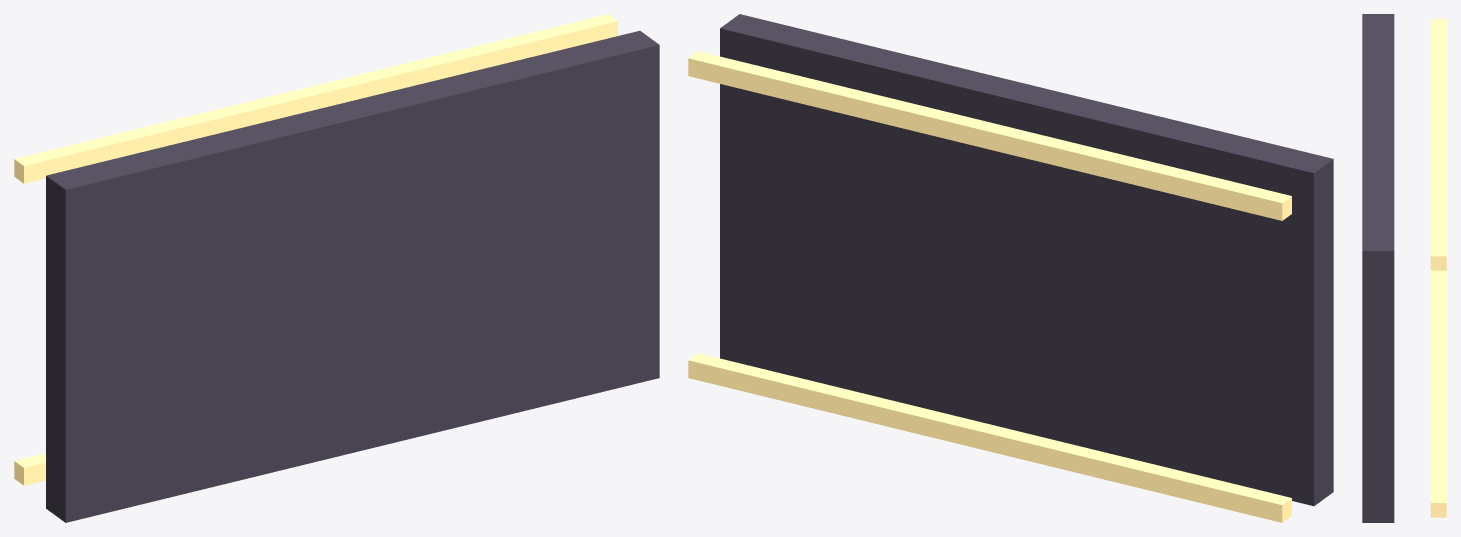
Rendered from bridge_span.glb.
3 views of the same model, side by side, from view 1: azimuth 30°, elevation 25°; view 2: azimuth 150°, elevation 25°; view 3: azimuth 270°, elevation 25° (orthographic). The views are drawn at different scales.
Parts seen in each view (by area): view 1: deck, rail_l, rail_r; view 2: deck, rail_r, rail_l; view 3: deck, rail_l, rail_r.
Part boxes in pixels (x1=…): deck: x1=46, y1=30, x2=659, y2=522; rail_l: x1=14, y1=14, x2=617, y2=183; rail_r: x1=14, y1=453, x2=45, y2=485; deck: x1=720, y1=14, x2=1333, y2=506; rail_r: x1=688, y1=353, x2=1291, y2=522; rail_l: x1=688, y1=51, x2=1291, y2=220; deck: x1=1362, y1=14, x2=1394, y2=522; rail_l: x1=1430, y1=19, x2=1446, y2=270; rail_r: x1=1430, y1=270, x2=1446, y2=517.
Bounding box in the file's own units: 2.8 × 1.5 × 0.42.
